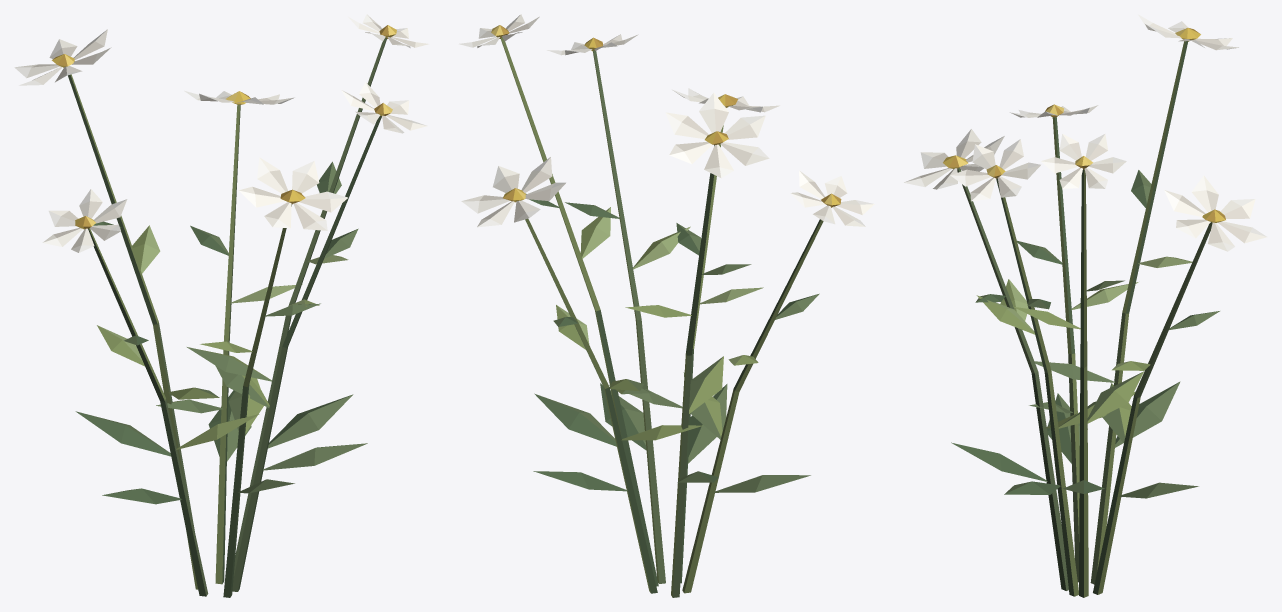
File: seasonal-forbs.glb
3 views of the same model, side by side, from view 1: azimuth 30°, elevation 25°; view 2: azimuth 150°, elevation 25°; view 3: azimuth 270°, elevation 25° (orthographic).
Visible parts, largest first — view 1: Forb stems, Forb Leaf blades, Forb Flower petals, Forb golden seed disks; view 2: Forb stems, Forb Leaf blades, Forb Flower petals, Forb golden seed disks; view 3: Forb stems, Forb Leaf blades, Forb Flower petals, Forb golden seed disks.
Part boxes in pixels (left/top/right/bottom): Forb stems: left=68, top=38, right=386, bottom=597; Forb Leaf blades: left=75, top=161, right=367, bottom=504; Forb Flower petals: left=14, top=14, right=428, bottom=252; Forb golden seed disks: left=52, top=25, right=396, bottom=229; Forb stems: left=500, top=37, right=823, bottom=597; Forb Leaf blades: left=526, top=194, right=819, bottom=492; Forb Flower petals: left=459, top=14, right=874, bottom=227; Forb golden seed disks: left=491, top=25, right=841, bottom=207; Forb stems: left=957, top=41, right=1212, bottom=597; Forb Leaf blades: left=951, top=170, right=1219, bottom=498; Forb Flower petals: left=904, top=14, right=1267, bottom=251; Forb golden seed disks: left=943, top=28, right=1225, bottom=222.
Size of the model in its own units: 0.4515 by 0.5997 by 0.3744.
